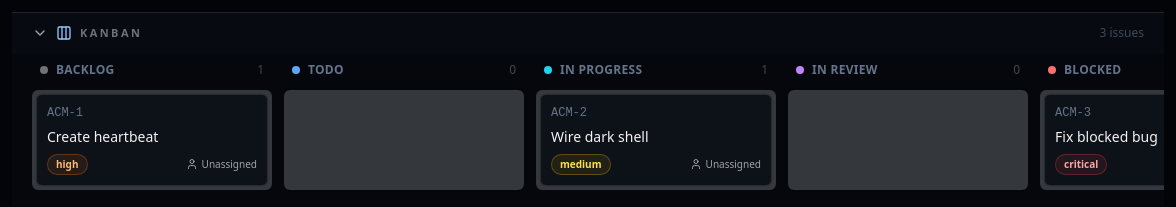
Scenario: KanbanPanel › can collapse and expand the panel
The image size is (1176, 207).
Check: the text "ACM-1" is shown, box [47,104,83,120]
# Click to collapse
Click the button "Kanban 3 issues" at {"x": 111, "y": 32}, box [12,13,1164,54]
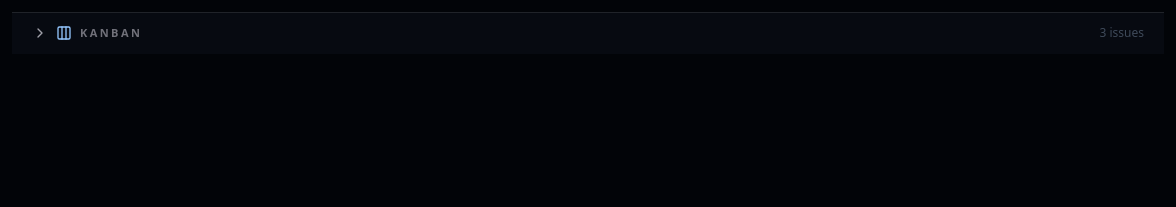
Check: the text "Backlog" is gone
# Click to expand
Click the button "Kanban 3 issues" at {"x": 111, "y": 32}, box [12,13,1164,54]
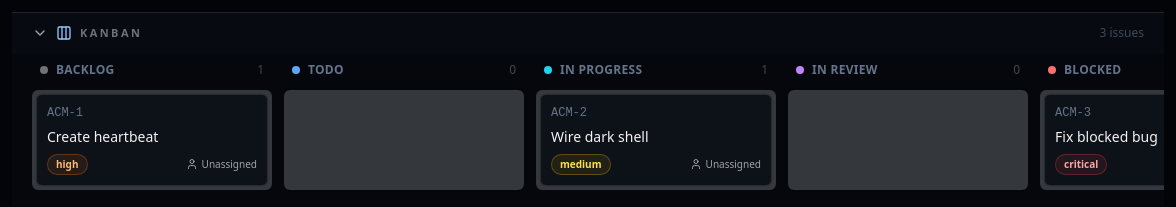
Check: the text "Backlog" is shown, box [56,62,115,78]
